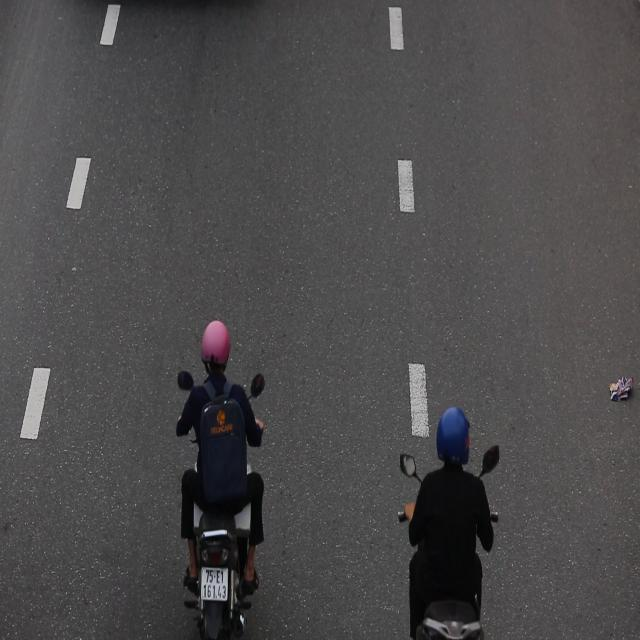motorbike: (170, 320, 278, 640)
